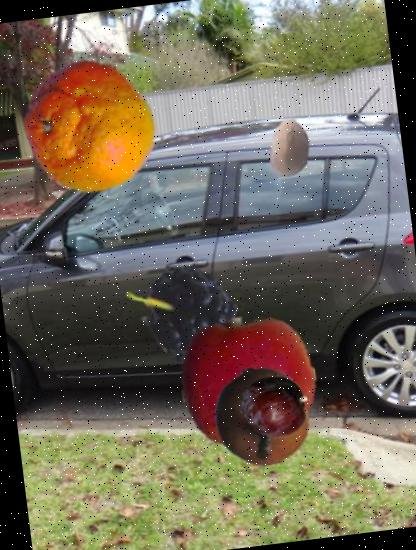Apple: (172, 303, 324, 455)
Granadilla: (207, 361, 318, 472)
Hazelnut: (256, 114, 324, 183)
Mandarine: (16, 54, 164, 201)
Mulberry: (124, 244, 266, 386)
Plum: (236, 369, 312, 445)
